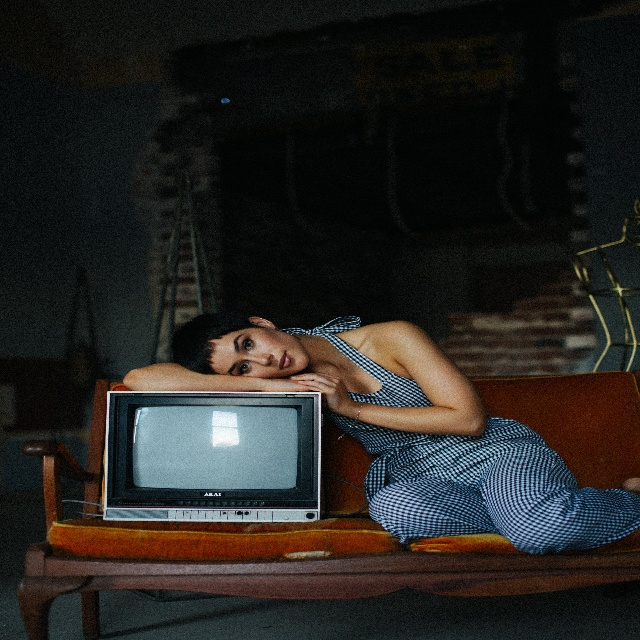Sin_guantes: (294, 370, 352, 415)
